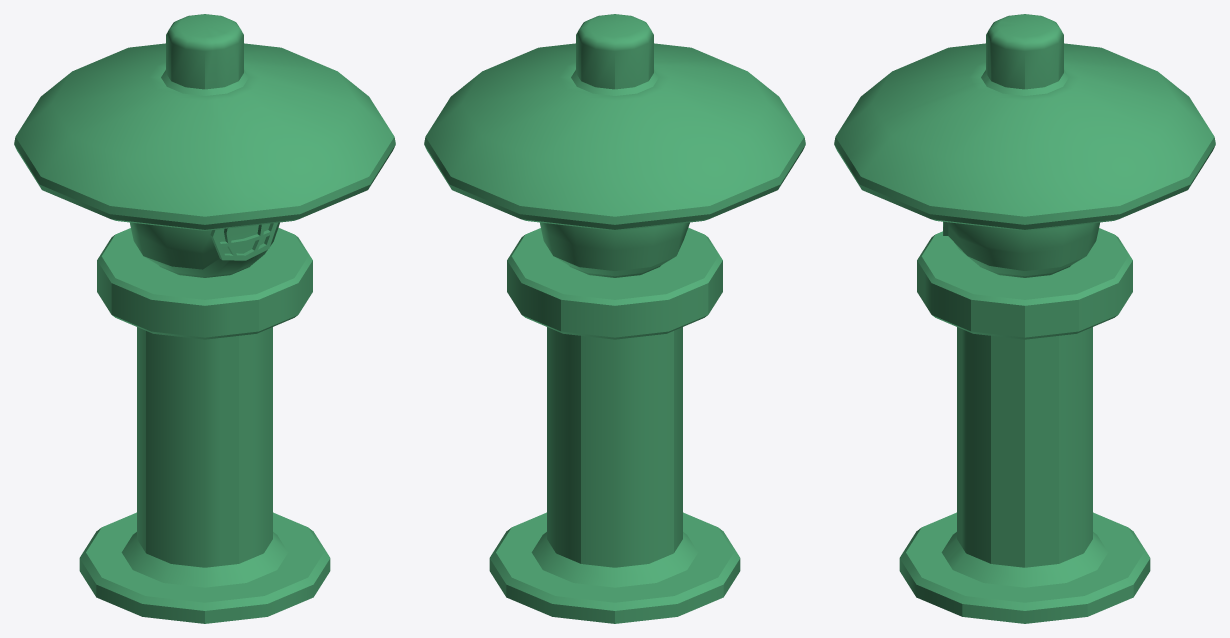
The model's file is StoneLamp_2.fbx.
The picture shows the model from 3 angles, left to right: view 1: azimuth 30°, elevation 25°; view 2: azimuth 150°, elevation 25°; view 3: azimuth 270°, elevation 25°; orthographic projection.
Parts seen in each view (by area): view 1: pasted__pasted__pCylinder19; view 2: pasted__pasted__pCylinder19; view 3: pasted__pasted__pCylinder19.
Part boxes in pixels (x1=…): pasted__pasted__pCylinder19: x1=14, y1=14, x2=395, y2=623; pasted__pasted__pCylinder19: x1=424, y1=14, x2=805, y2=623; pasted__pasted__pCylinder19: x1=834, y1=14, x2=1215, y2=623.
Bounding box in the file's own units: 66.2 × 104 × 66.2.
